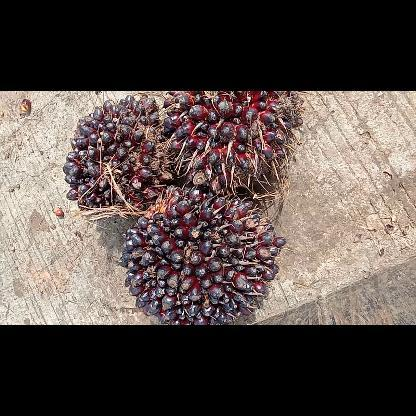TBS mentah: (116, 182, 290, 324), (157, 90, 308, 196), (59, 91, 180, 217)
